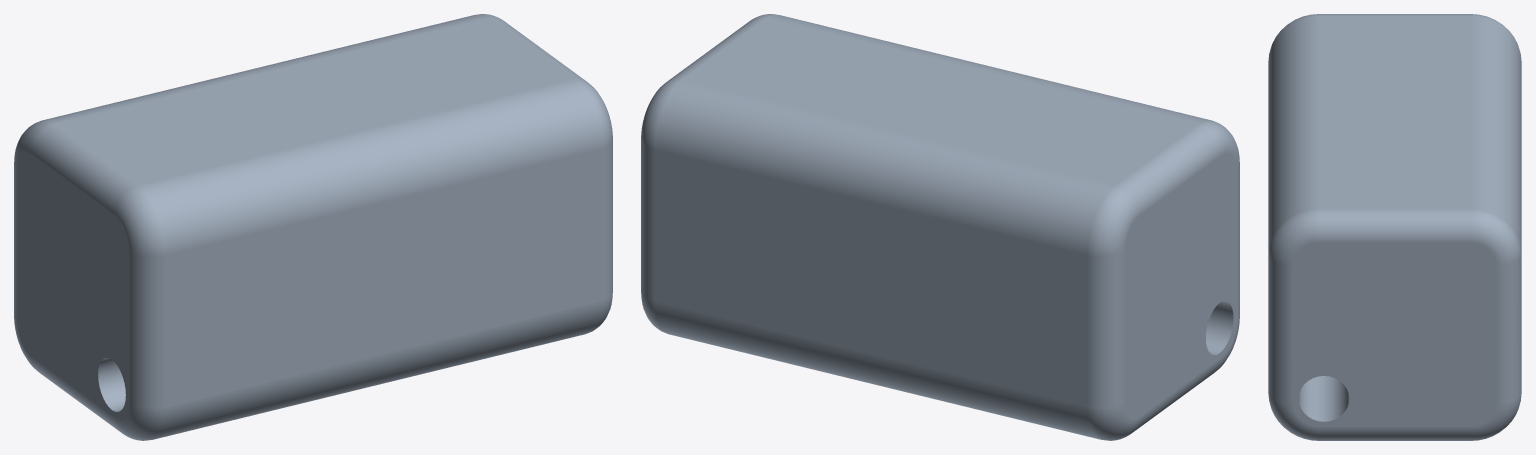
Rendered from hiddenmaze.obj.
The picture shows the model from 3 angles, left to right: view 1: azimuth 30°, elevation 25°; view 2: azimuth 150°, elevation 25°; view 3: azimuth 270°, elevation 25°; orthographic projection. The views are drawn at different scales.
Visible parts, largest first — view 1: 1; view 2: 1; view 3: 1.
Part boxes in pixels (left/top/right/bottom): 1: left=14, top=14, right=612, bottom=440; 1: left=641, top=14, right=1239, bottom=440; 1: left=1268, top=14, right=1521, bottom=440.
Size of the model in its own units: 100 by 50 by 50.
